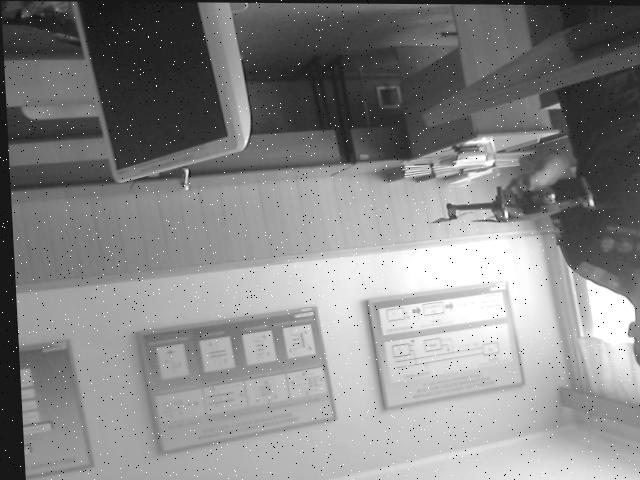drone: (426, 173, 603, 253)
